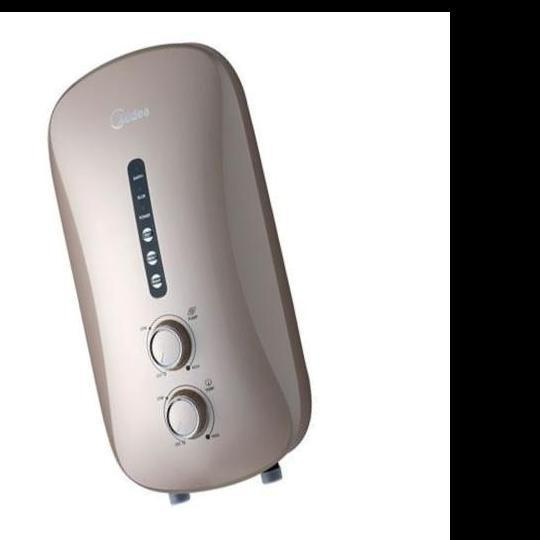Ducha: (13, 12, 369, 516)
